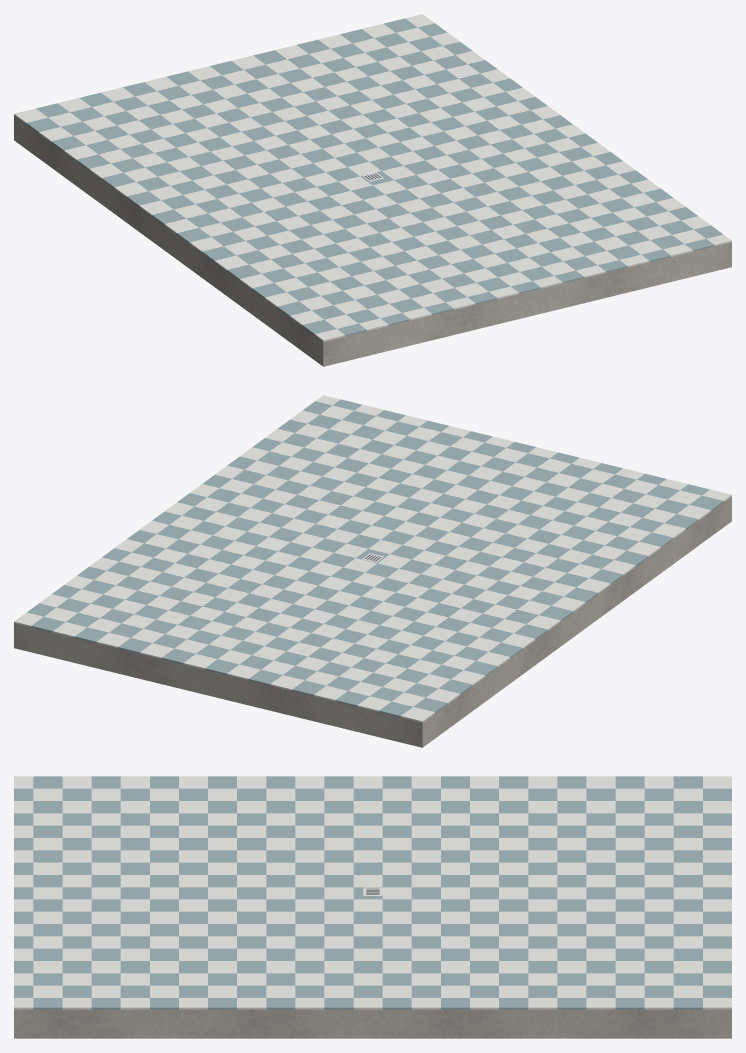
File: floor_lr.glb
3 views of the same model, one above another, from view 1: azimuth 30°, elevation 25°; view 2: azimuth 150°, elevation 25°; view 3: azimuth 270°, elevation 25° (orthographic). The views are drawn at different scales.
Parts seen in each view (by area): view 1: floor_lr_tile_a, floor_lr_tile_b, floor_lr_concrete; view 2: floor_lr_tile_a, floor_lr_tile_b, floor_lr_concrete; view 3: floor_lr_tile_a, floor_lr_tile_b, floor_lr_concrete.
Boxes of the visible parts, left/top/right/bottom form: floor_lr_tile_a: left=14, top=14, right=731, bottom=341; floor_lr_tile_b: left=26, top=18, right=723, bottom=336; floor_lr_concrete: left=14, top=115, right=731, bottom=366; floor_lr_tile_a: left=14, top=395, right=731, bottom=722; floor_lr_tile_b: left=27, top=399, right=723, bottom=717; floor_lr_concrete: left=14, top=496, right=731, bottom=747; floor_lr_tile_a: left=14, top=776, right=731, bottom=1009; floor_lr_tile_b: left=14, top=776, right=731, bottom=1009; floor_lr_concrete: left=14, top=1009, right=731, bottom=1038.
Bounding box in the file's own units: 5.64 × 0.354 × 7.4.
Materials: 5 (1 with a texture image).
